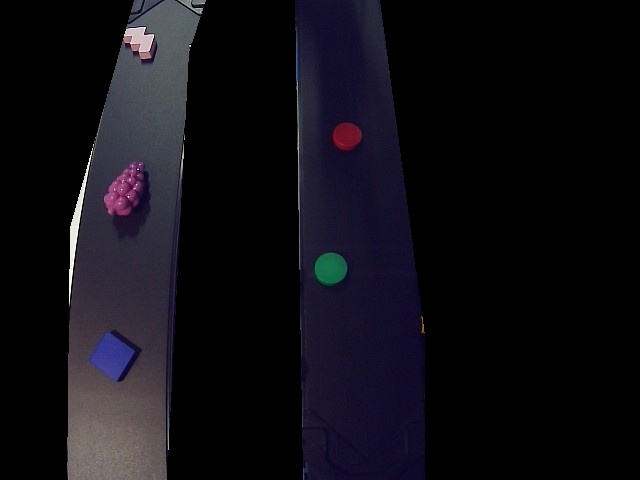Blue_Square: (88, 333, 141, 380)
Green_Circle: (314, 252, 351, 285)
Red_Circle: (330, 122, 365, 151)
Unknown: (104, 164, 148, 218), (123, 28, 158, 61)
